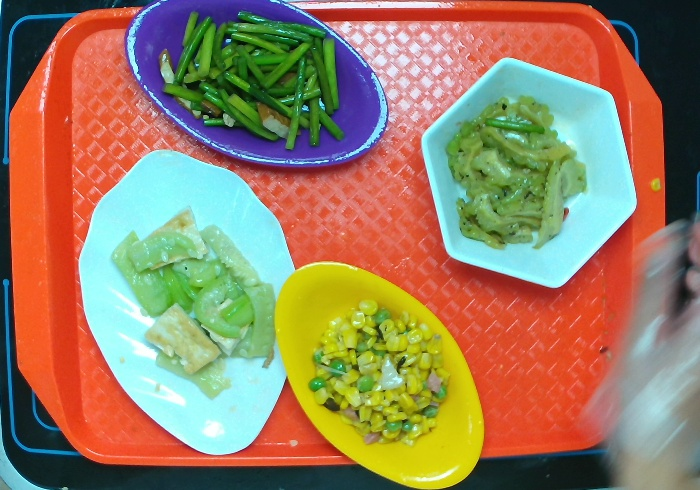RJxy-Bai_Ye_Pan: (83, 154, 299, 454)
RJxy-Fen_Hong_Tuo_Yuan: (116, 1, 394, 172)
RJxy-Huang_Se_Tuo_Yuan: (271, 257, 486, 488)
RJxy-Liu_Jiao_Wan: (419, 58, 635, 287)
